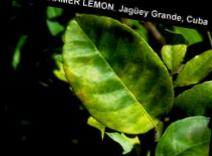Citrus Greening: (51, 11, 178, 136), (158, 109, 212, 156), (171, 37, 212, 90), (170, 72, 212, 116), (158, 40, 186, 72)
